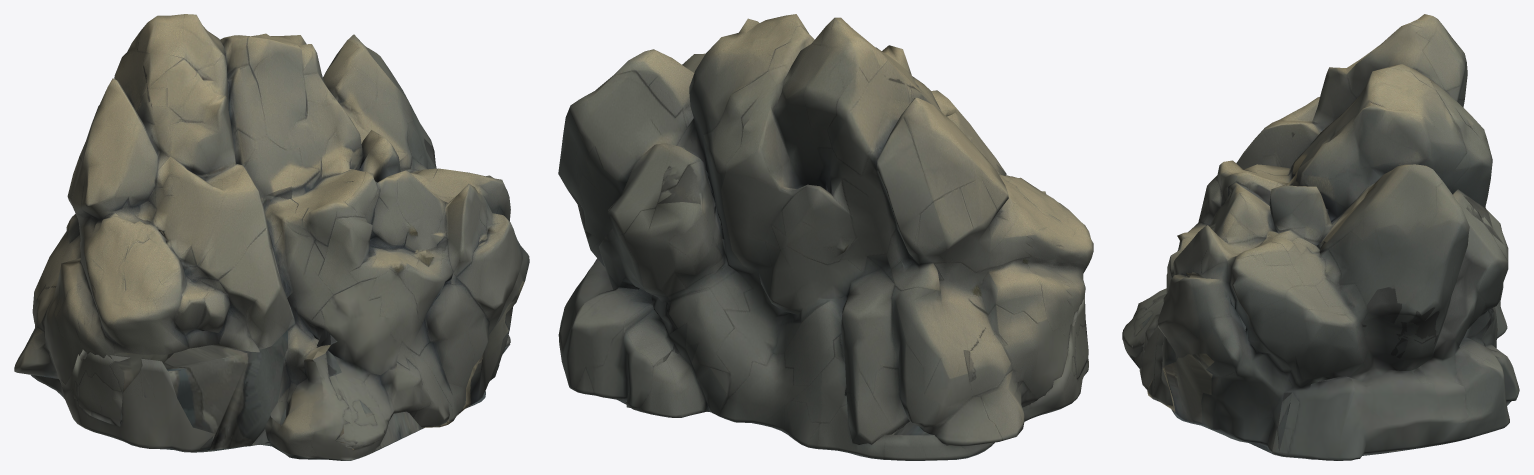
The model's file is crag.glb.
The picture shows the model from 3 angles, left to right: view 1: azimuth 30°, elevation 25°; view 2: azimuth 150°, elevation 25°; view 3: azimuth 270°, elevation 25°; orthographic projection. The views are drawn at different scales.
Visible parts, largest first — view 1: CRAG; view 2: CRAG; view 3: CRAG.
Part boxes in pixels (bbox=[...]): CRAG: bbox=[14, 14, 529, 460]; CRAG: bbox=[558, 14, 1093, 460]; CRAG: bbox=[1122, 14, 1519, 460].
Bounding box in the file's own units: 2.7 × 2.03 × 2.3.
1 material, 1 textured.
